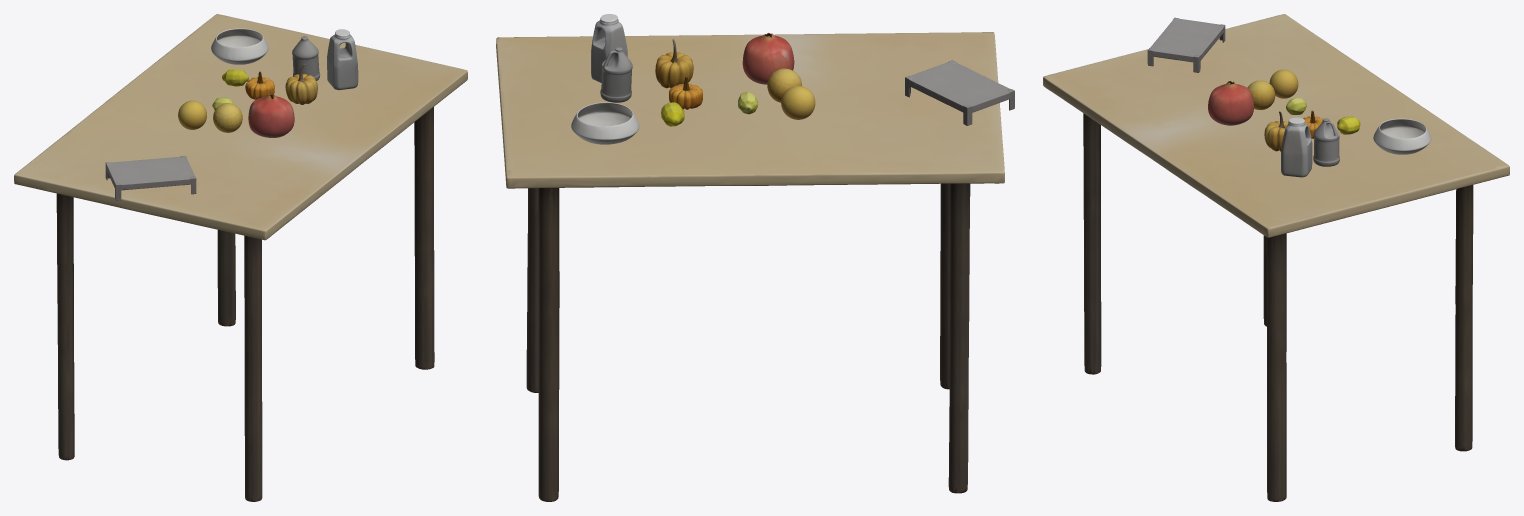
The model's file is rest3d.glb.
The picture shows the model from 3 angles, left to right: view 1: azimuth 30°, elevation 25°; view 2: azimuth 150°, elevation 25°; view 3: azimuth 270°, elevation 25°; orthographic projection. The views are drawn at different scales.
Parts seen in each view (by area): view 1: World; view 2: World; view 3: World.
Boxes of the visible parts, x1,y1,x2,y2 form: World: (14, 14, 467, 501); World: (496, 14, 1014, 501); World: (1043, 14, 1509, 501).
Size of what is drawn, in the model's own units: 1.34 by 0.9919 by 1.22.
